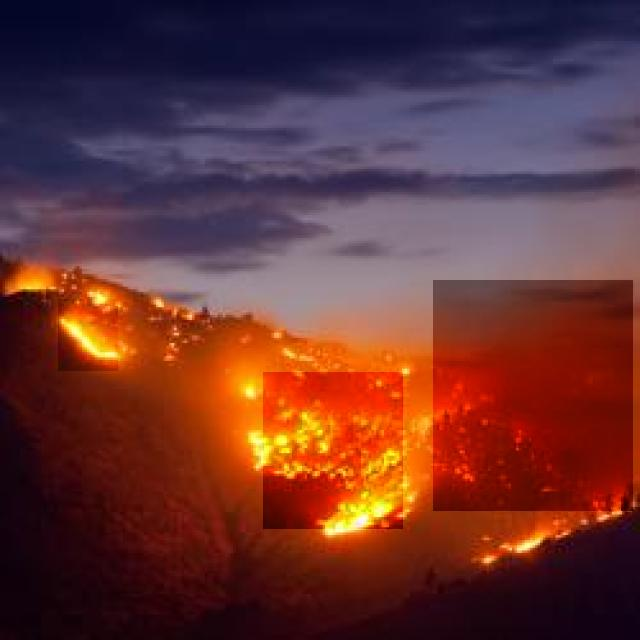Fire: (263, 372, 403, 529), (58, 299, 118, 372)
Smoke: (434, 280, 634, 511)
